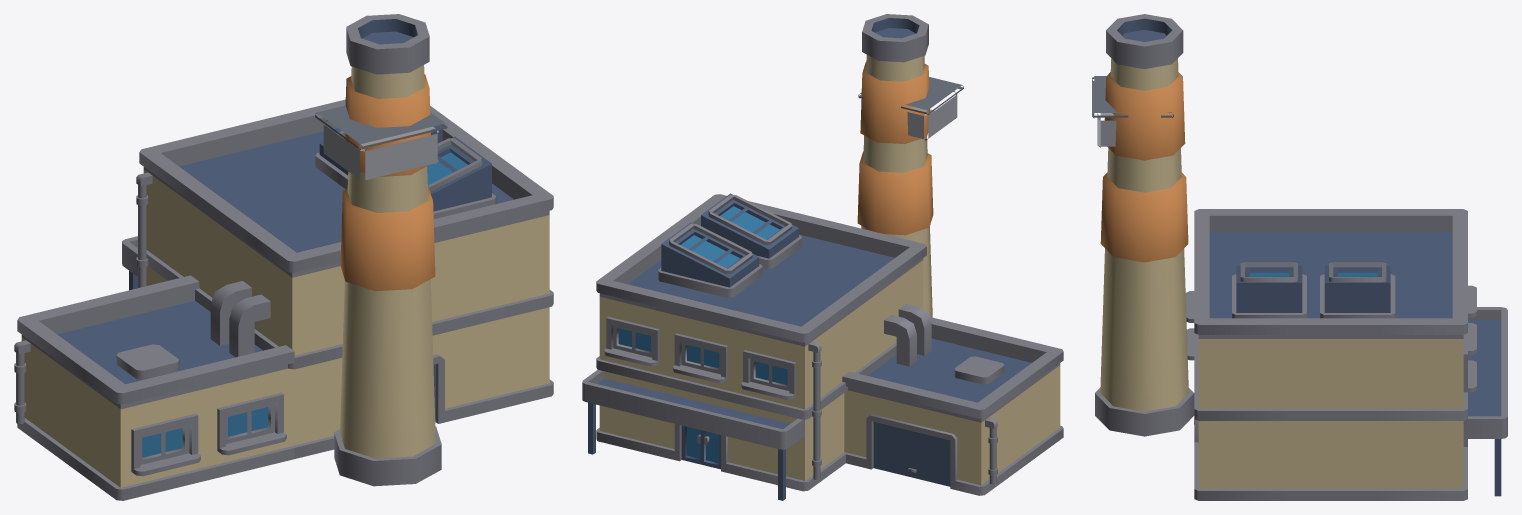
File: factory-a.glb
3 views of the same model, side by side, from view 1: azimuth 30°, elevation 25°; view 2: azimuth 150°, elevation 25°; view 3: azimuth 270°, elevation 25° (orthographic). The views are drawn at different scales.
Parts seen in each view (by area): view 1: factory-a; view 2: factory-a; view 3: factory-a.
Boxes of the visible parts, box(x1,y1,x2,y2) form: factory-a: box(14, 14, 553, 500); factory-a: box(582, 14, 1063, 500); factory-a: box(1092, 14, 1507, 500).
Bounding box in the file's own units: 0.9 × 0.8316 × 0.8132.
